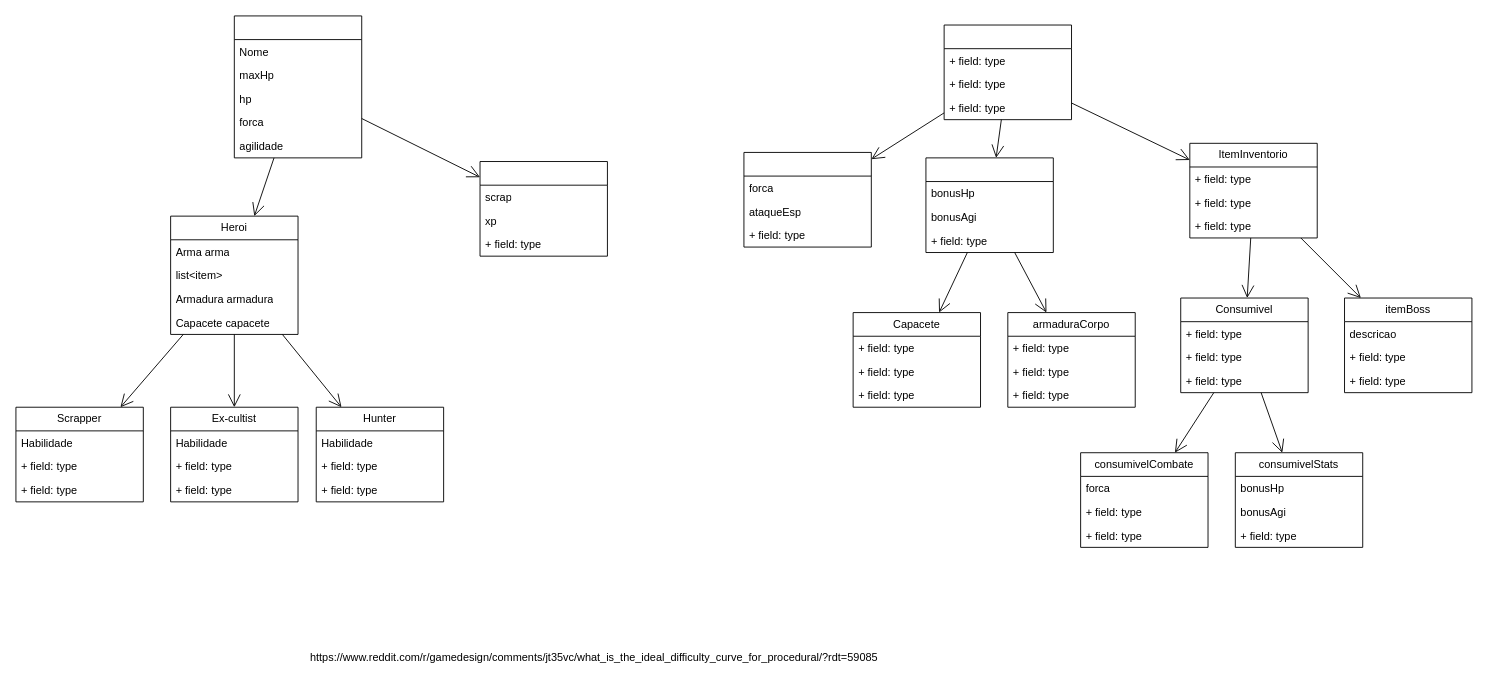
Some shapes in this 1488 by 687 pixel diagram are drawn without their labels. The shapes that lost their labels are listed below. From the top down, each one's box as (x1, y1, x2, y2) in pixels, then its label:
(233, 15, 362, 158): Entidade
(943, 24, 1072, 120): itemHeroi
(479, 161, 607, 256): NPC
(743, 152, 871, 247): Arma
(925, 157, 1053, 253): Armadura
